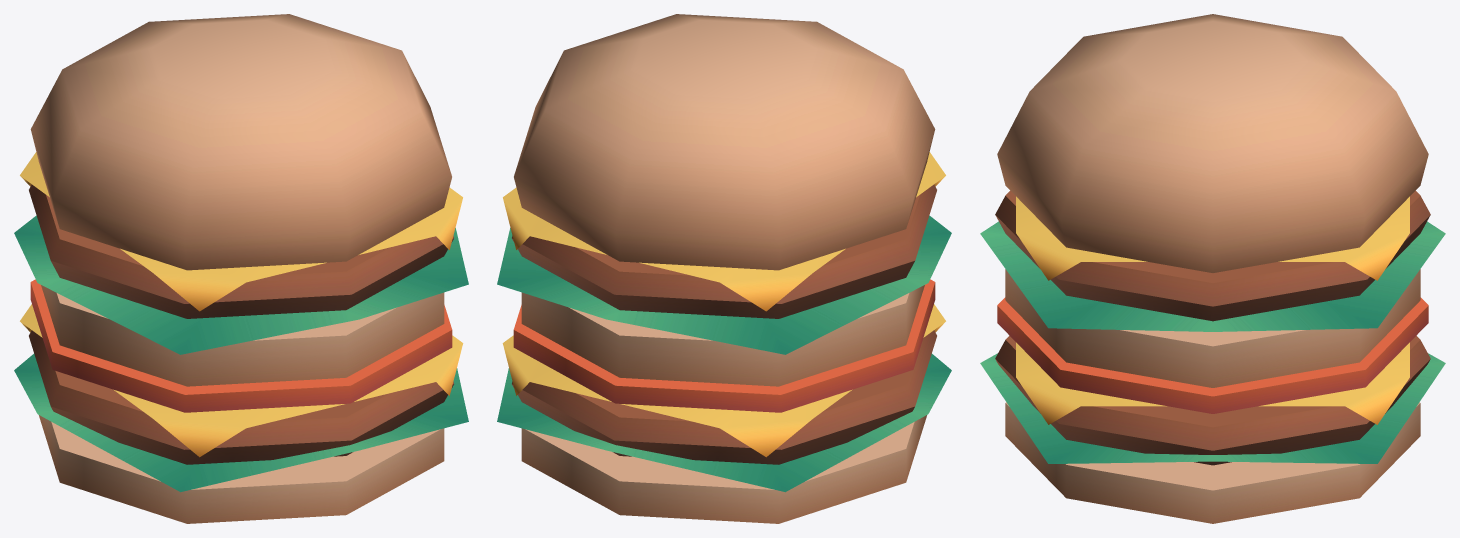
File: burger-double.glb
The picture shows the model from 3 angles, left to right: view 1: azimuth 30°, elevation 25°; view 2: azimuth 150°, elevation 25°; view 3: azimuth 270°, elevation 25°; orthographic projection.
Parts seen in each view (by area): view 1: bun-top, patty (×2), salad (×2), bun-bottom, bun-middle, cheese (×2), tomato; view 2: bun-top, patty (×2), salad (×2), bun-bottom, bun-middle, cheese (×2), tomato; view 3: bun-top, patty (×2), salad (×2), bun-bottom, bun-middle, tomato, cheese (×2).
Boxes of the visible parts, x1,y1,x2,y2 form: bun-top: [30, 14, 451, 270]; patty (×2): [29, 184, 453, 464]; salad (×2): [14, 215, 468, 492]; bun-bottom: [39, 415, 444, 523]; bun-middle: [41, 285, 444, 386]; cheese (×2): [20, 152, 463, 457]; tomato: [30, 279, 452, 412]; bun-top: [514, 14, 935, 270]; patty (×2): [512, 184, 936, 464]; salad (×2): [497, 215, 951, 492]; bun-bottom: [521, 415, 926, 523]; bun-middle: [521, 285, 924, 386]; cheese (×2): [502, 152, 945, 457]; tomato: [513, 279, 935, 412]; bun-top: [997, 14, 1428, 272]; patty (×2): [995, 190, 1430, 465]; salad (×2): [980, 221, 1445, 463]; bun-bottom: [1005, 402, 1420, 523]; bun-middle: [1005, 269, 1420, 387]; tomato: [997, 297, 1428, 413]; cheese (×2): [1016, 196, 1409, 424].
Size of the model in its own units: 0.4041 by 0.36 by 0.4041.
Materials: 1 (1 with a texture image).
